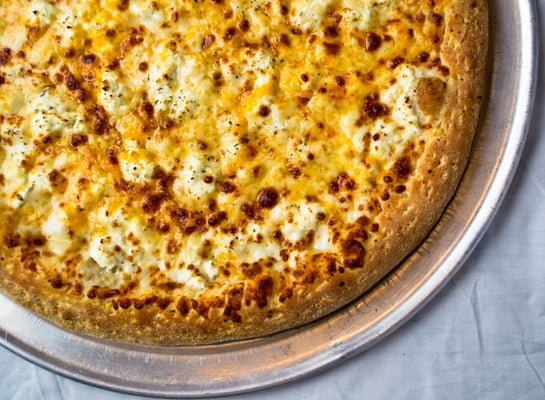curry: (21, 5, 543, 391)
sandwich: (0, 0, 478, 339)
